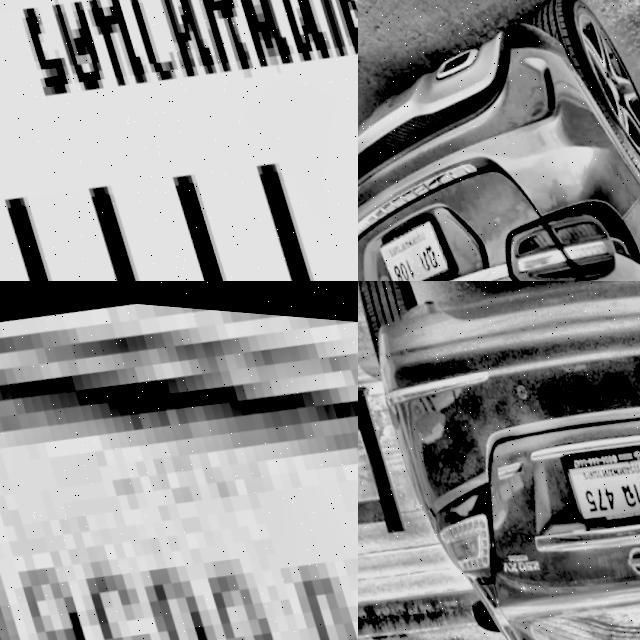license-plate: (0, 281, 358, 640), (0, 0, 358, 281), (540, 427, 640, 539), (360, 206, 453, 281)
